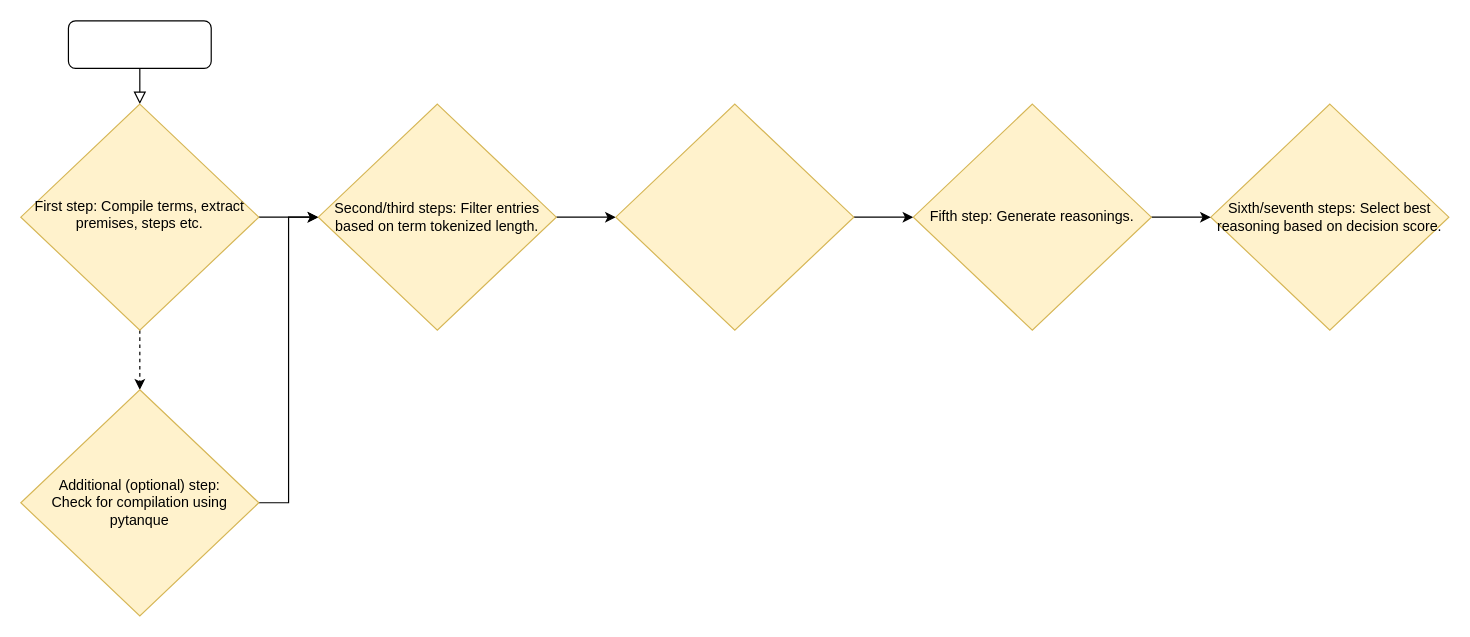
This 1470x637 diagram has some shape labels left out. The box of each missing label's shape, as (x1, y1, x2, y2) in pixels:
Fourth step: Select a diverse set of lemmas/proofs (BM25).: (615, 103, 854, 330)
Mathcomp: (67, 20, 211, 68)
